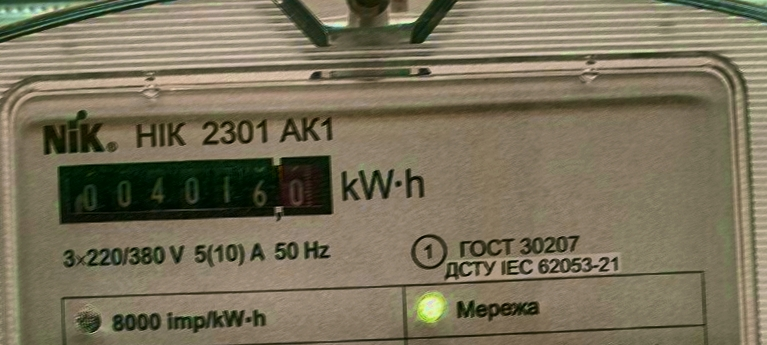0: (180, 170, 201, 206), (78, 178, 99, 211), (284, 173, 304, 206), (113, 174, 132, 208)
1: (218, 169, 233, 203)
4: (147, 170, 165, 205)
6: (248, 173, 267, 205)
screen: (49, 146, 340, 230)
